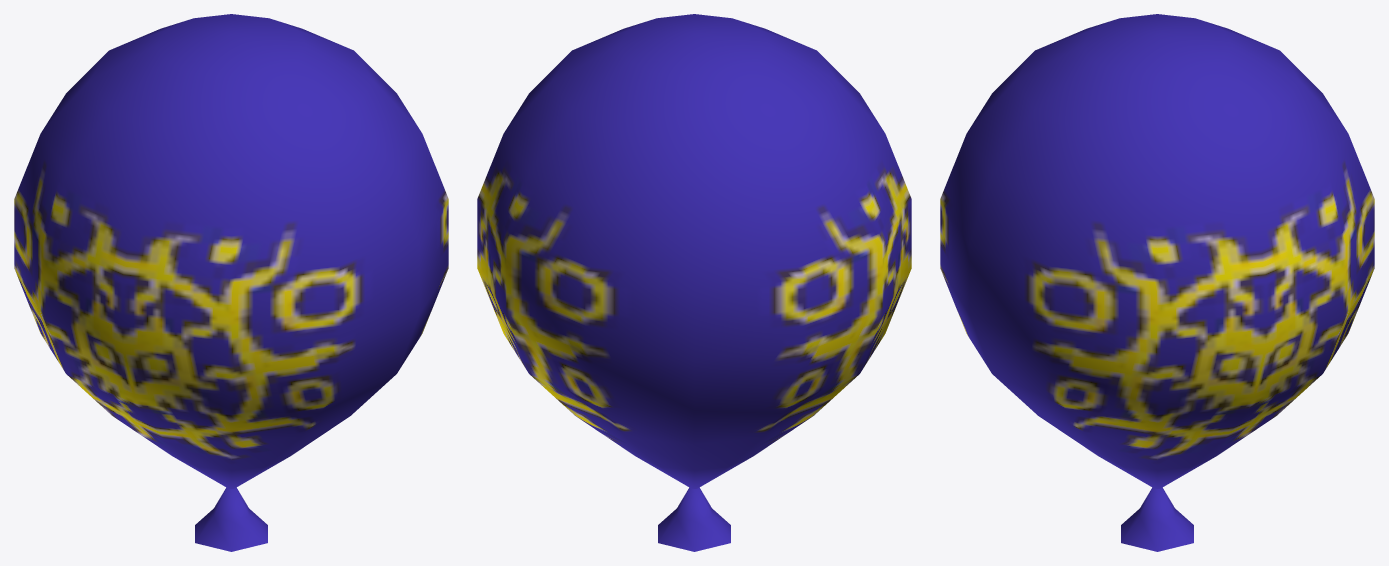
The model's file is balloon.dae.
3 renders of one model, left to right at view 1: azimuth 30°, elevation 25°; view 2: azimuth 150°, elevation 25°; view 3: azimuth 270°, elevation 25°, orthographic.
Parts seen in each view (by area): view 1: majora_balloon; view 2: majora_balloon; view 3: majora_balloon.
Boxes of the visible parts, x1,y1,x2,y2 form: majora_balloon: (14,14,448,551); majora_balloon: (477,14,911,551); majora_balloon: (940,14,1374,551).
Bounding box in the file's own units: 0.9952 × 0.9952 × 1.26.
Materials: 2 (2 with a texture image).
